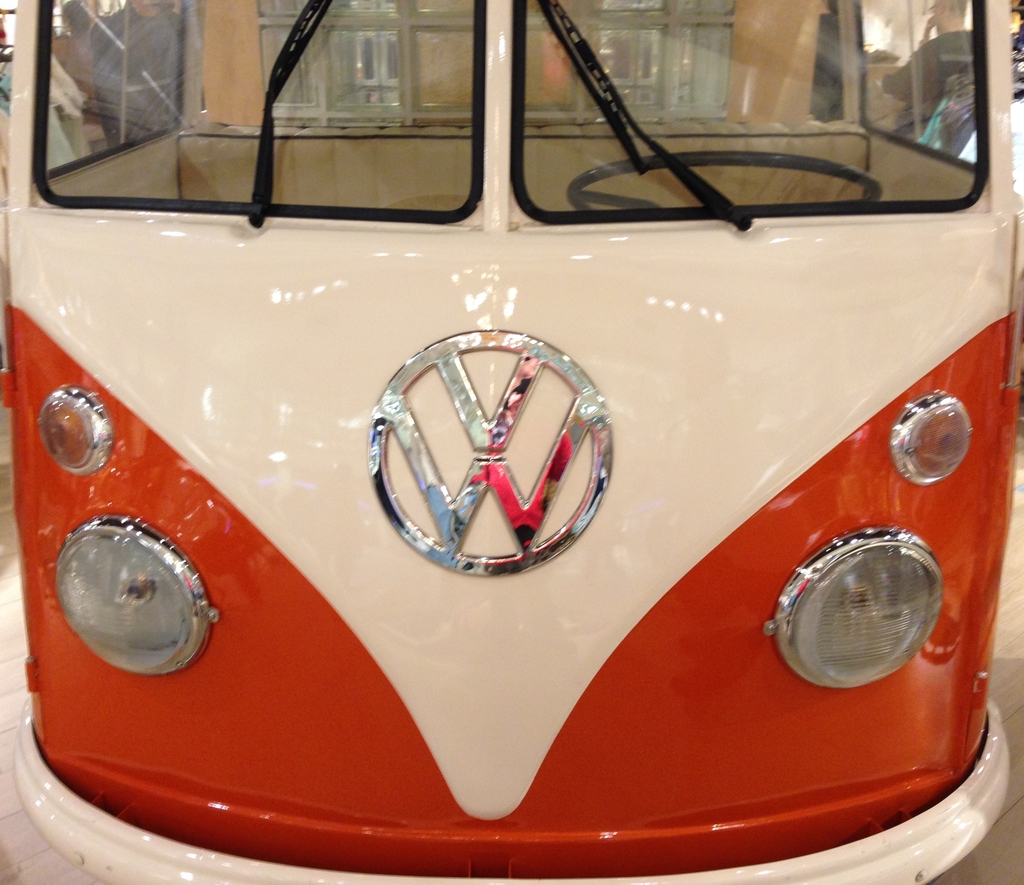person: (87, 0, 206, 149)
